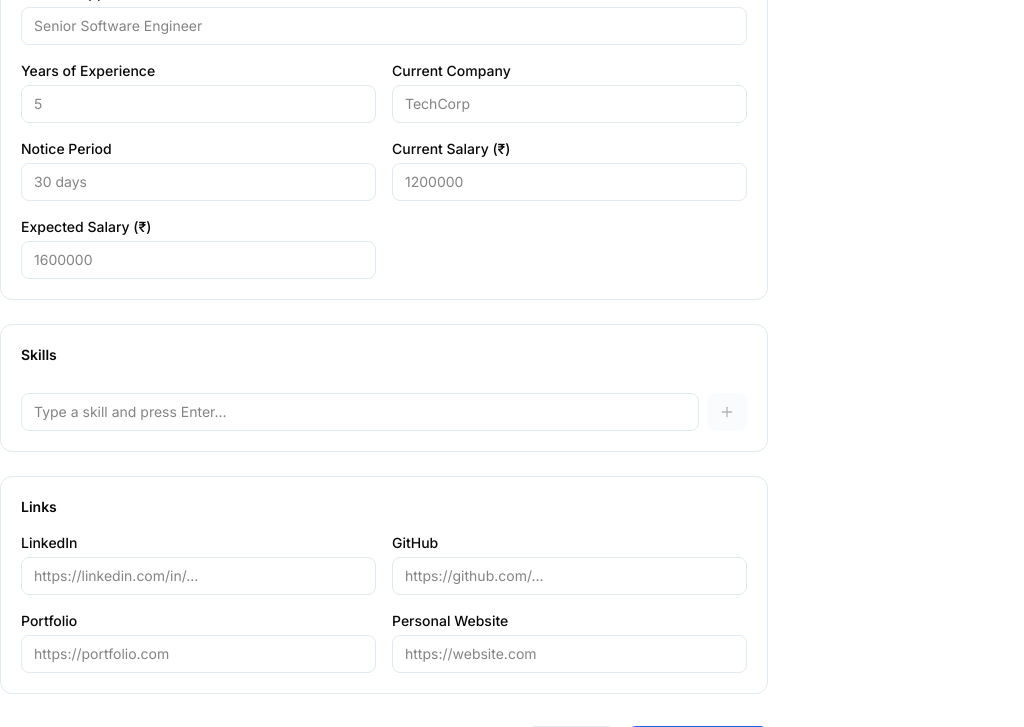
Scenario: Add Candidate Page › should add and remove skills
The width and height of the screenshot is (1024, 727).
(page scrolled)
Type "React" into the field with placeholder "Type a skill and press Enter..." at (360, 412), box [21,393,699,431]
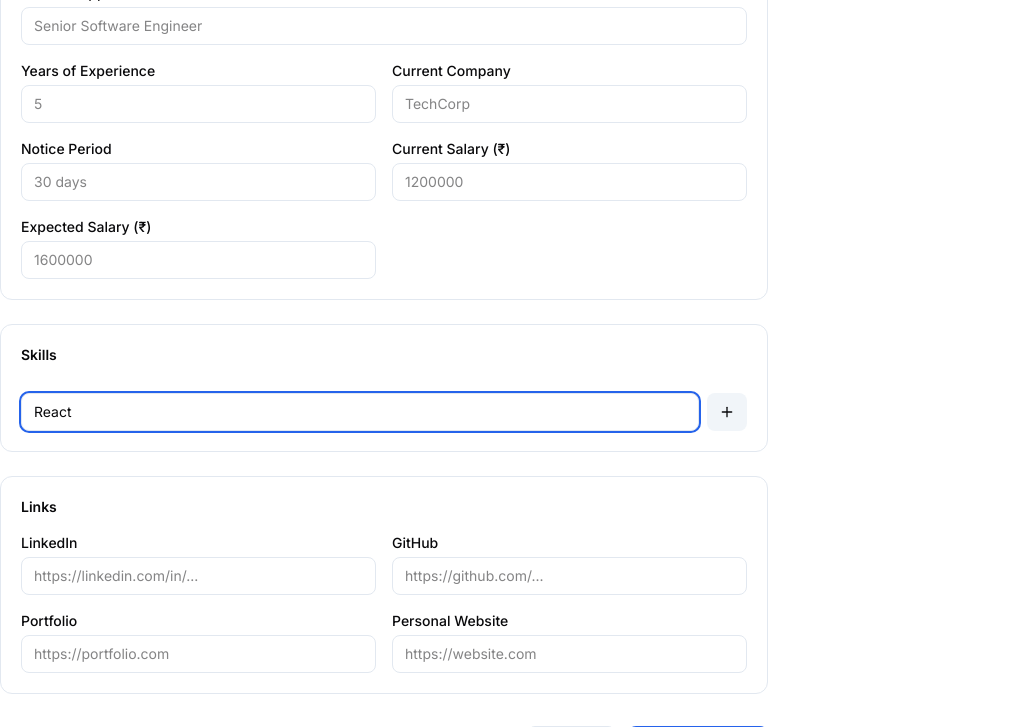
Press Enter
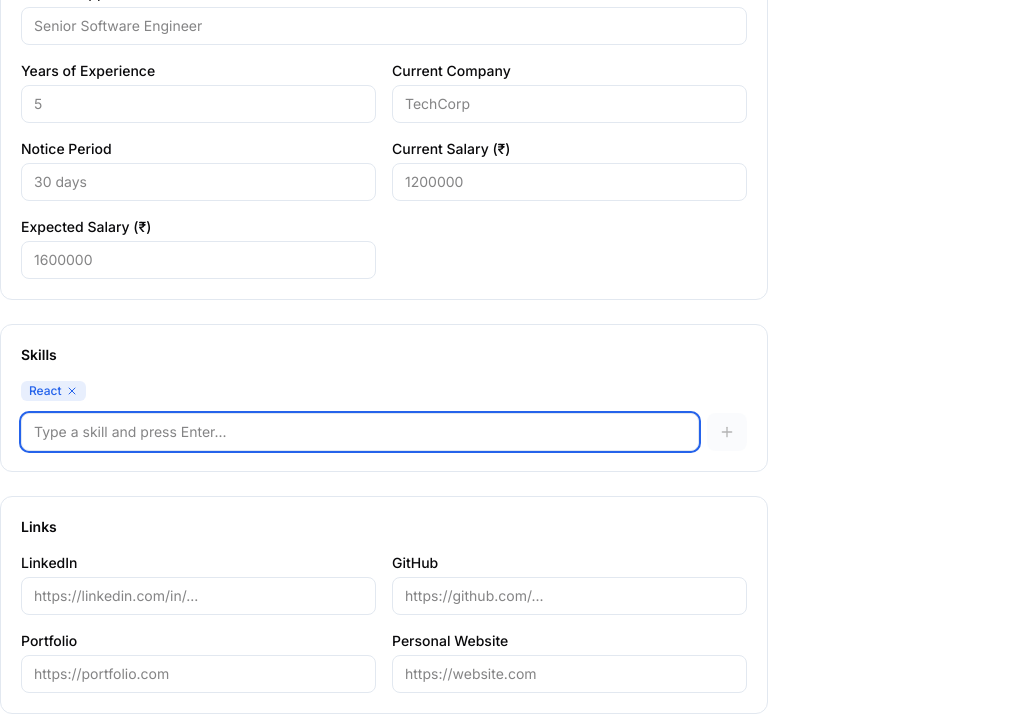
Expected: the text "React" is shown, [21,381,86,401]
Click the button without text next to "React" at (72, 391), box [66,385,78,397]
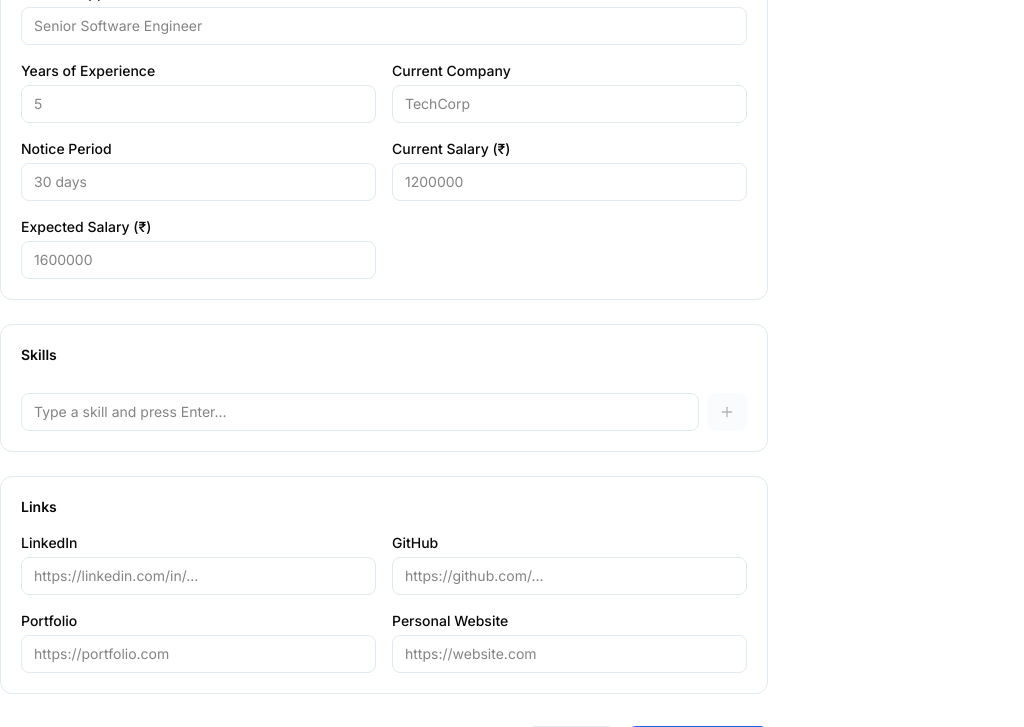
Expected: the text "React" is gone
